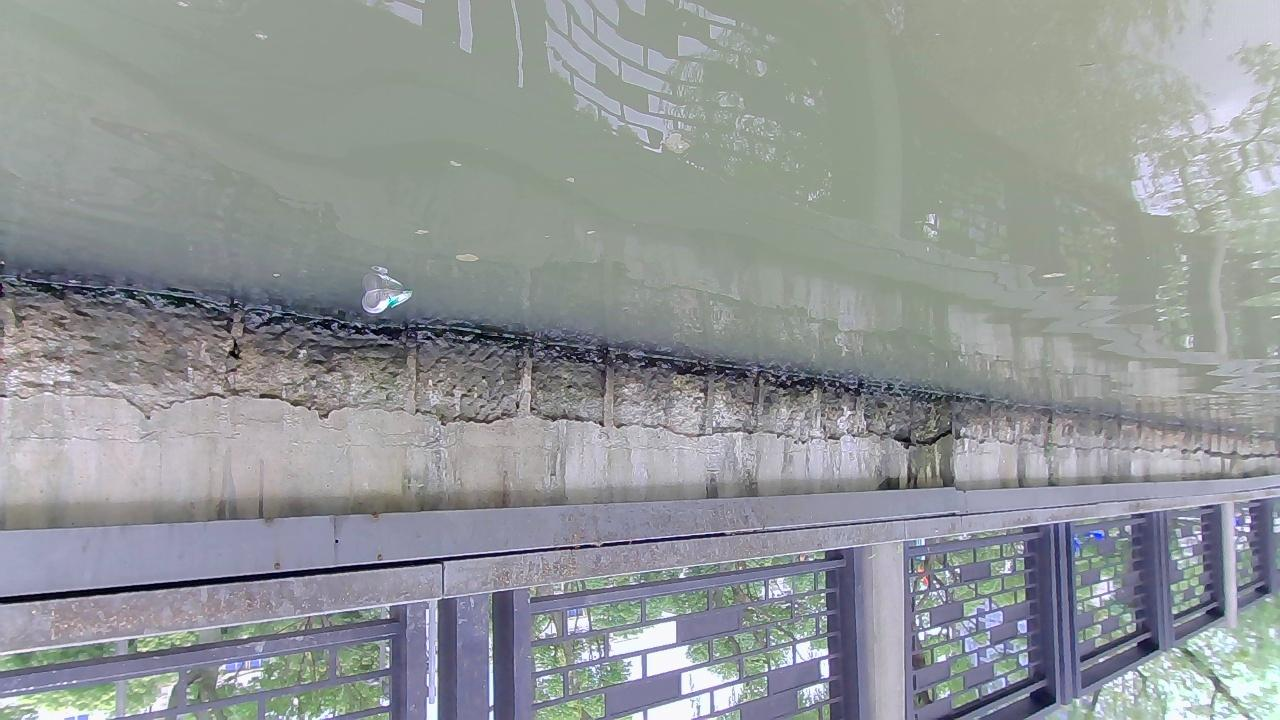Metal: (360, 289, 414, 315)
